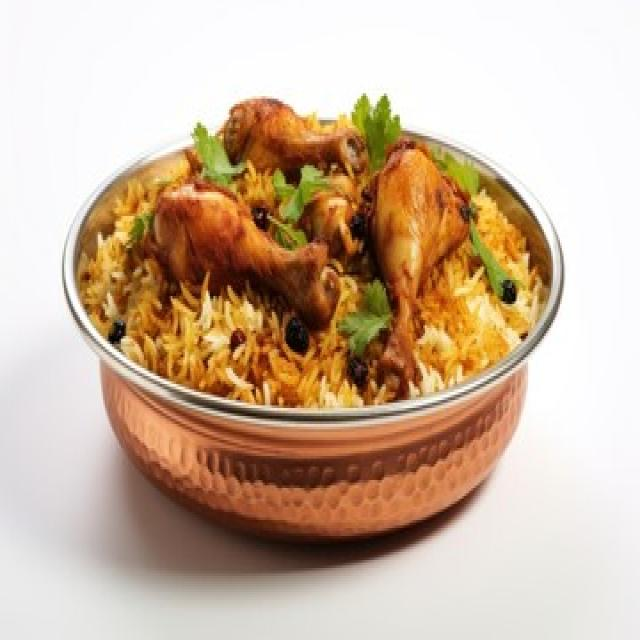BIRIYANI: (78, 96, 544, 408)
